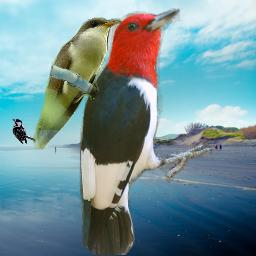Cuckoo: (31, 17, 122, 150)
Woodpecker: (78, 8, 212, 255), (11, 118, 36, 144)
